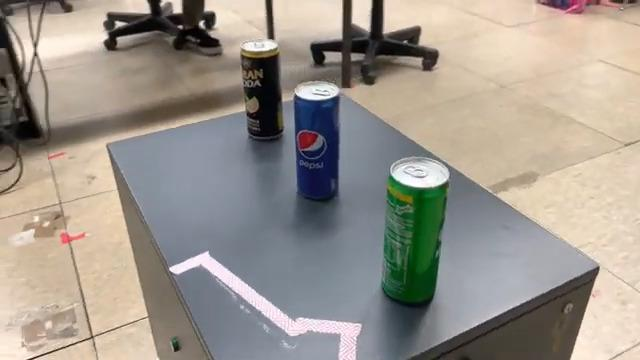OranSoda: (237, 35, 287, 145)
Pepsi: (292, 77, 342, 205)
Sprite: (376, 153, 454, 310)
